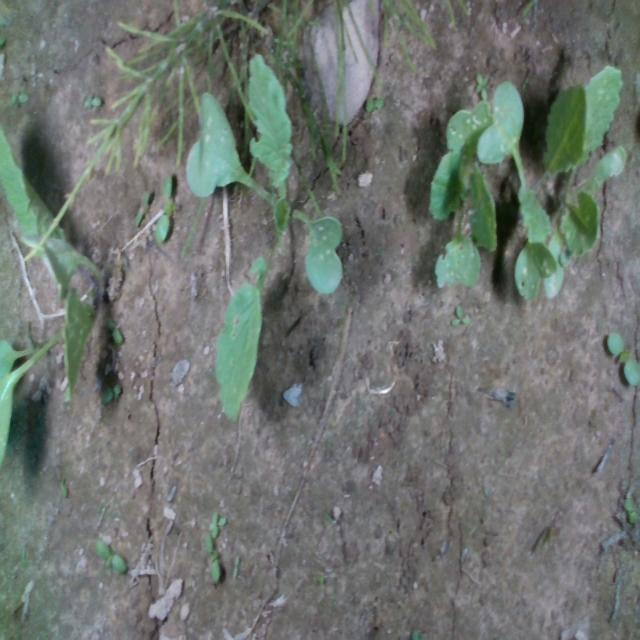weed: (153, 171, 177, 245), (93, 537, 127, 575), (132, 187, 152, 226), (100, 380, 122, 404), (448, 302, 469, 326), (232, 552, 240, 579)
